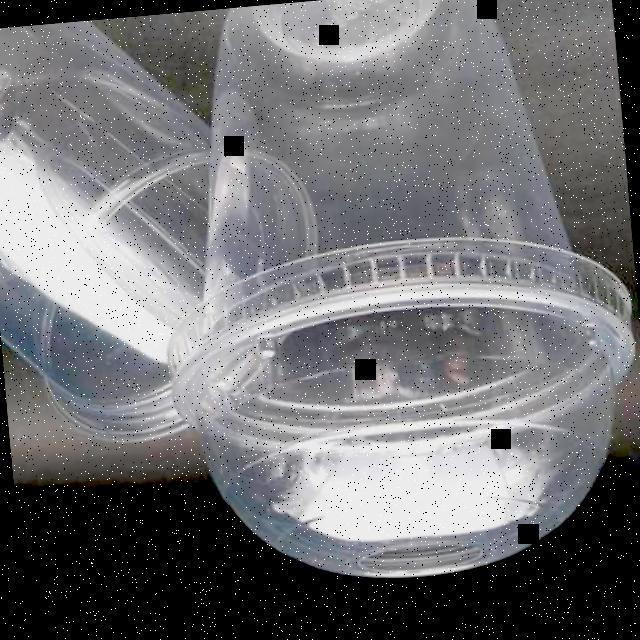plastic_box: (140, 0, 640, 599), (0, 3, 332, 453)
